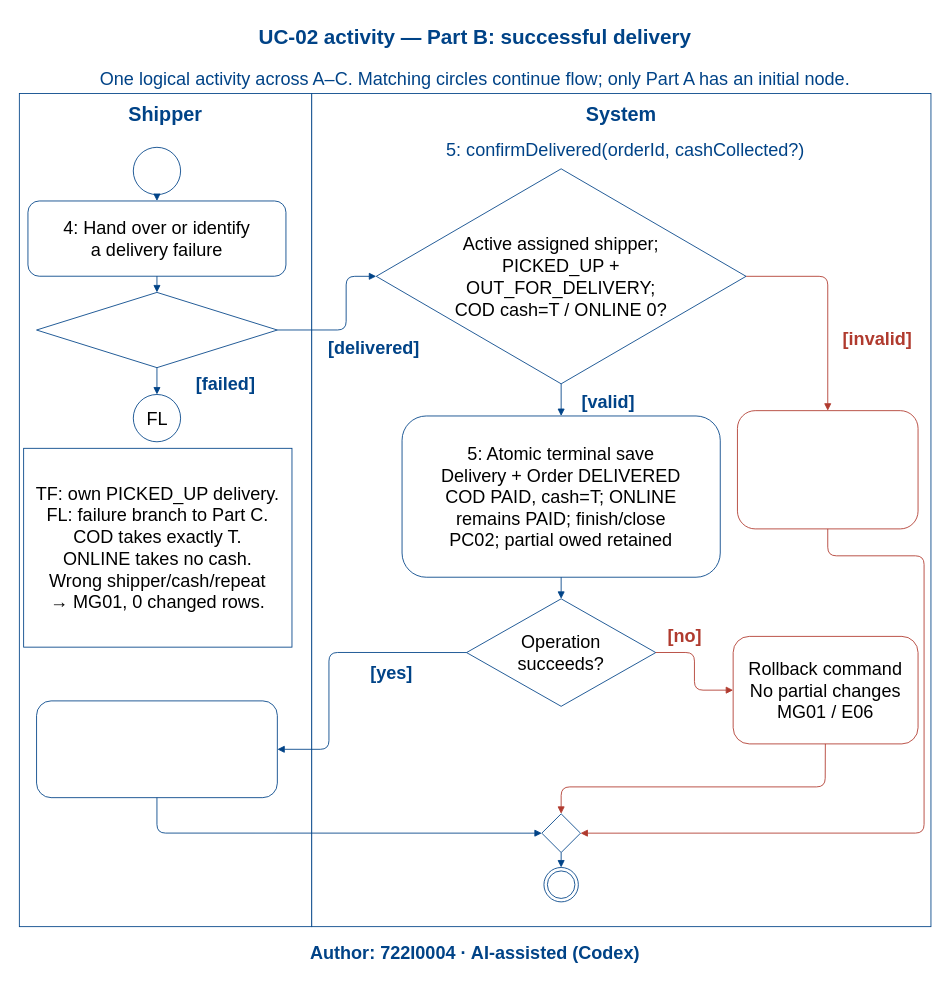
Some shapes in this 949 by 982 pixel diagram are drawn without their labels. The shapes that lost their labels are listed below. From the top down, each one's centre as x and y in pixels, then its label:
At (156,170): "TF".
At (156,330): "5 / A02: Outcome?".
At (827,469): "Refuse; no changes MG01 / E01–E05".
At (156,749): "6: Read delivered result Request ends".
